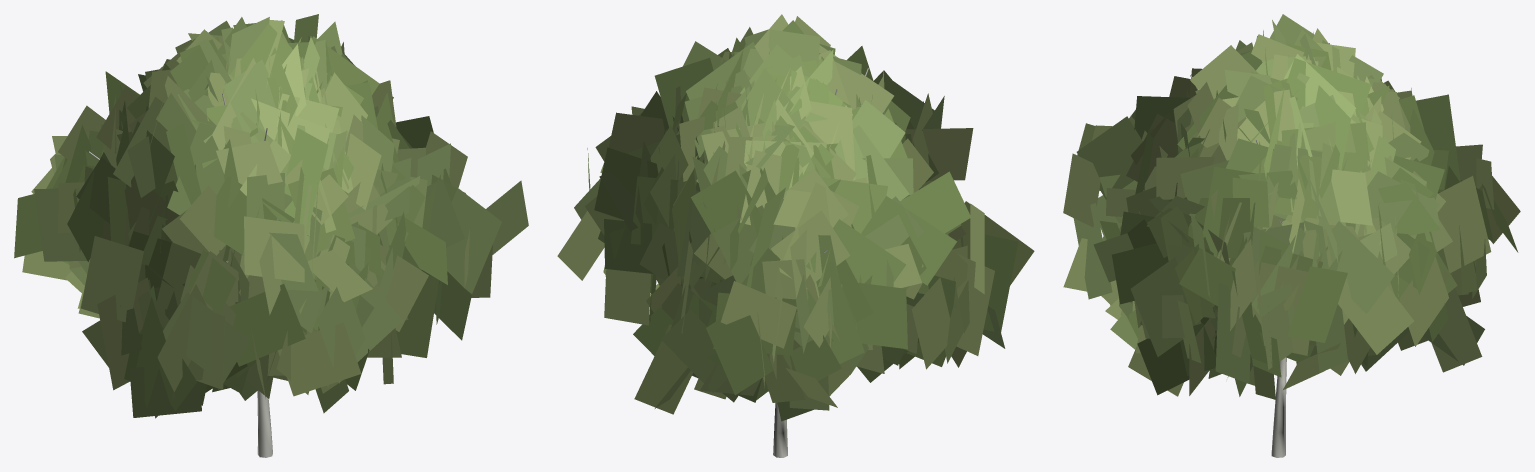
The model's file is birch_0.glb.
3 views of the same model, side by side, from view 1: azimuth 30°, elevation 25°; view 2: azimuth 150°, elevation 25°; view 3: azimuth 270°, elevation 25° (orthographic). The views are drawn at different scales.
Parts seen in each view (by area): view 1: birch_0; view 2: birch_0; view 3: birch_0.
Part boxes in pixels (x1,y1,x2,y2): birch_0: [14, 14, 528, 457]; birch_0: [557, 14, 1034, 457]; birch_0: [1063, 14, 1520, 457].
Size of the model in its own units: 1 by 1 by 0.9749.
